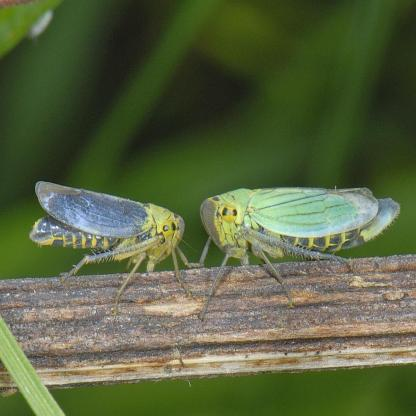Green-Leafhopper: (189, 184, 405, 312), (30, 174, 204, 314)
